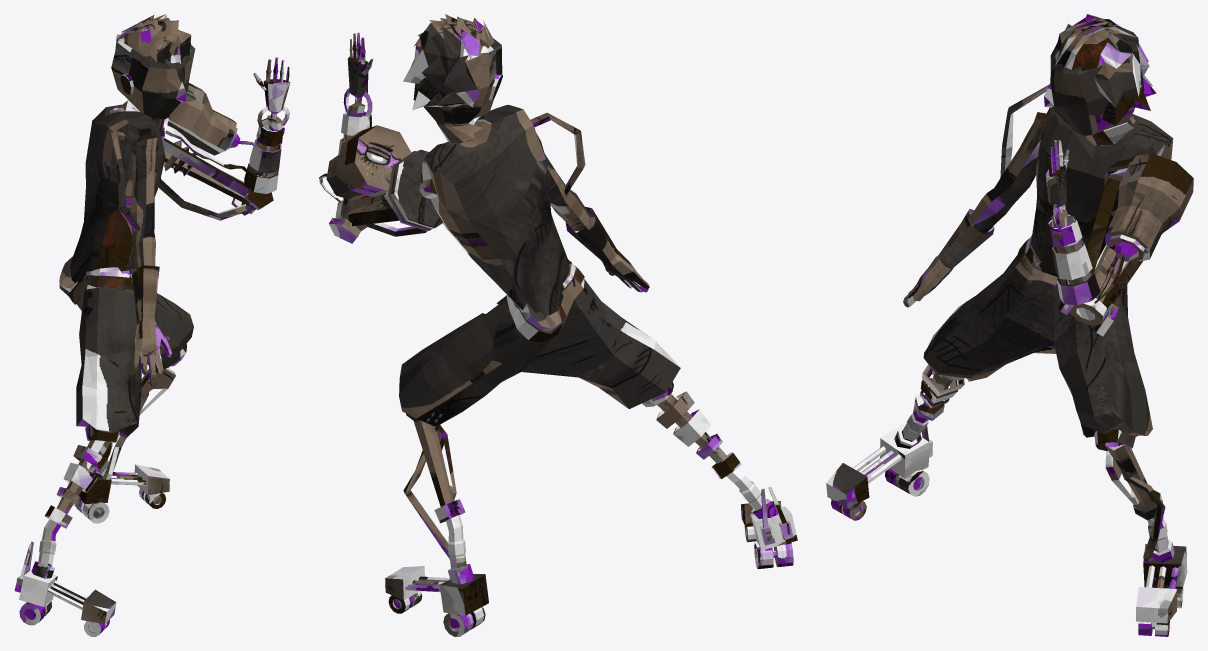
The model's file is CyborgFINALAnimation_000026.obj.
3 renders of one model, left to right at view 1: azimuth 30°, elevation 25°; view 2: azimuth 150°, elevation 25°; view 3: azimuth 270°, elevation 25°, orthographic. The views are drawn at different scales.
Visible parts, largest first — view 1: CyborgMesh_Cube.002; view 2: CyborgMesh_Cube.002; view 3: CyborgMesh_Cube.002.
Boxes of the visible parts, box(x1,y1,x2,y2) form: CyborgMesh_Cube.002: box(14, 14, 290, 636); CyborgMesh_Cube.002: box(319, 14, 797, 636); CyborgMesh_Cube.002: box(826, 14, 1193, 636).
Size of the model in its own units: 5.96 by 8.67 by 4.76.
